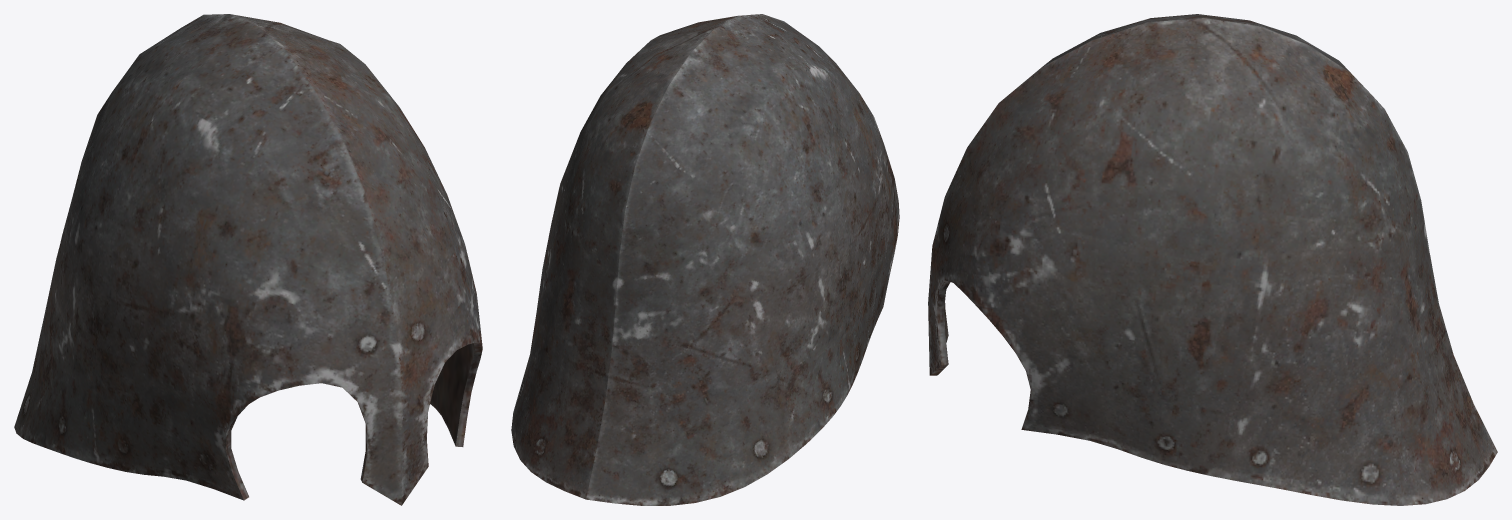
File: sk_gb_uruk_helmet_light_a.fbx
3 views of the same model, side by side, from view 1: azimuth 30°, elevation 25°; view 2: azimuth 150°, elevation 25°; view 3: azimuth 270°, elevation 25° (orthographic). The views are drawn at different scales.
Visible parts, largest first — view 1: sk_gb_uruk_helmet_light_a; view 2: sk_gb_uruk_helmet_light_a; view 3: sk_gb_uruk_helmet_light_a.
Boxes of the visible parts, left/top/right/bottom form: sk_gb_uruk_helmet_light_a: left=14, top=14, right=482, bottom=505; sk_gb_uruk_helmet_light_a: left=511, top=14, right=899, bottom=505; sk_gb_uruk_helmet_light_a: left=928, top=14, right=1497, bottom=505.
Size of the model in its own units: 0.2034 by 0.3051 by 0.2585.
Materials: 1 (1 with a texture image).
